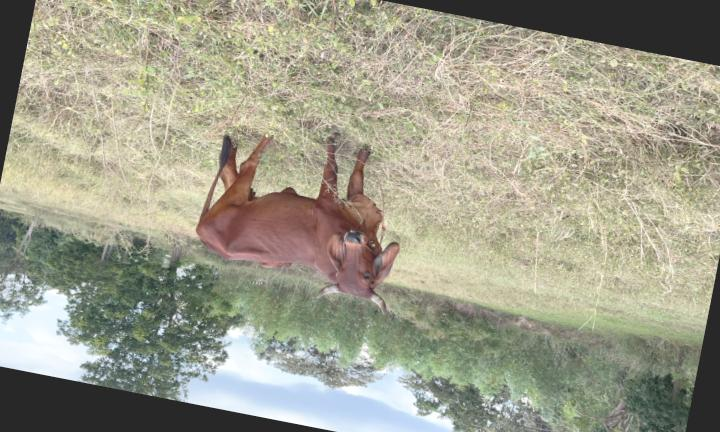Brahman: (195, 133, 398, 312)
